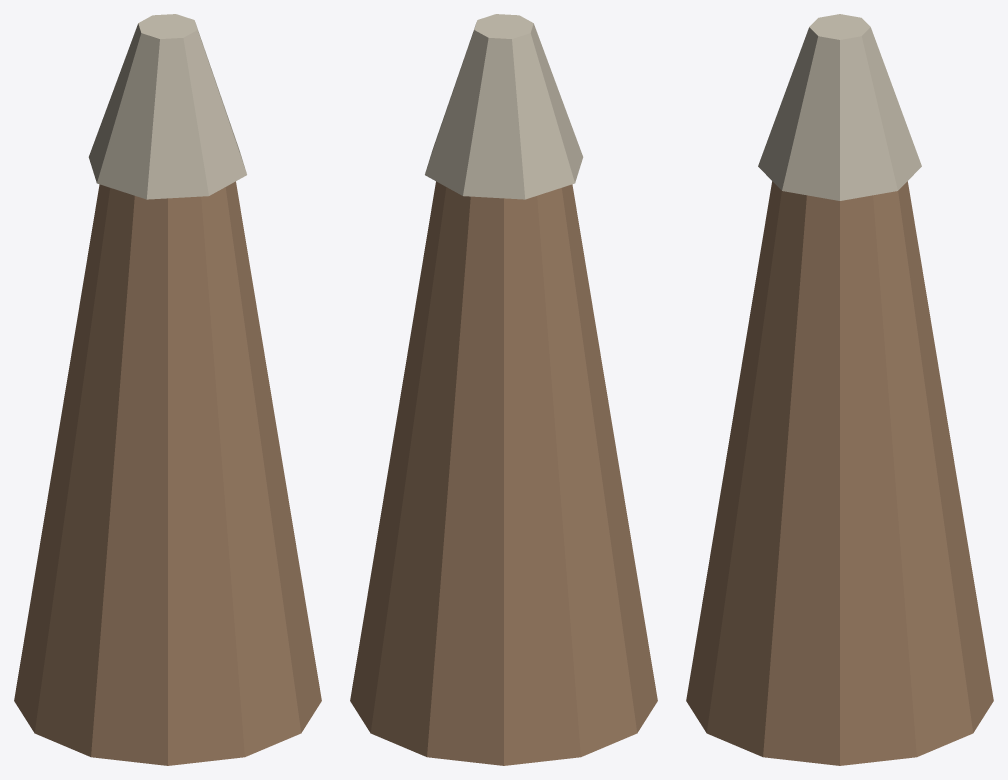
Rendered from molotov.glb.
The picture shows the model from 3 angles, left to right: view 1: azimuth 30°, elevation 25°; view 2: azimuth 150°, elevation 25°; view 3: azimuth 270°, elevation 25°; orthographic projection.
Parts seen in each view (by area): view 1: molotov; view 2: molotov; view 3: molotov.
Boxes of the visible parts, x1,y1,x2,y2 form: molotov: (14,14,321,765); molotov: (350,14,657,765); molotov: (686,14,993,765).
Bounding box in the file's own units: 0.075 × 0.1812 × 0.075.
